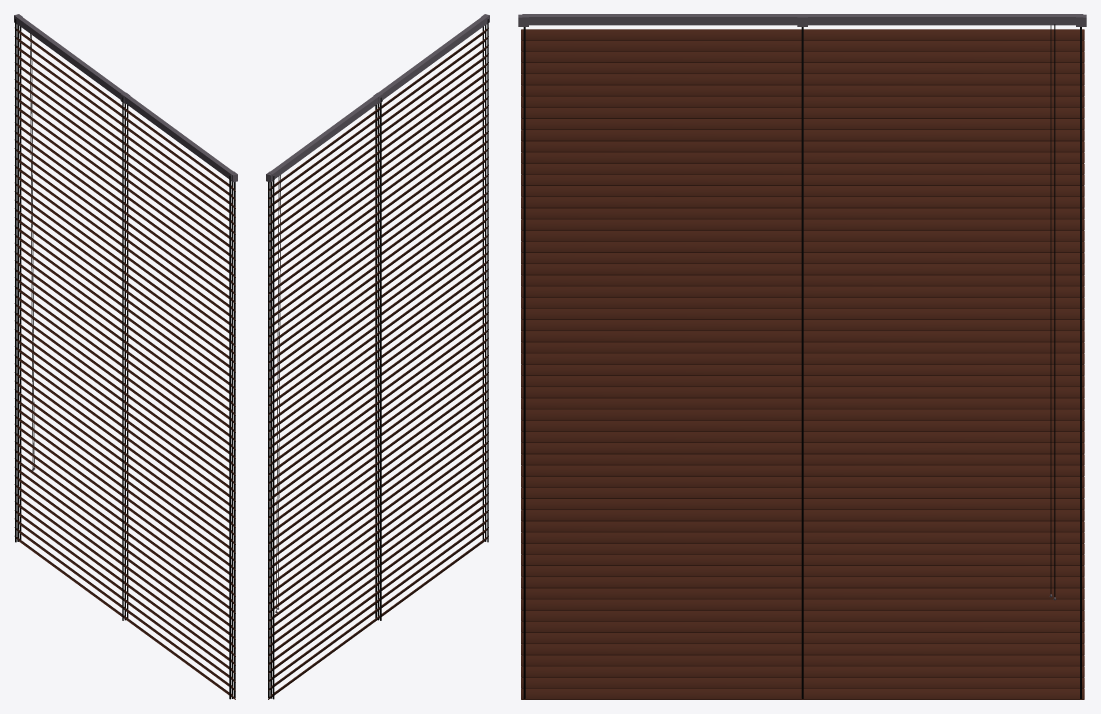
Rendered from SM_Blindes_mesh_lod0.fbx.
3 views of the same model, side by side, from view 1: azimuth 30°, elevation 25°; view 2: azimuth 150°, elevation 25°; view 3: azimuth 270°, elevation 25° (orthographic). The views are drawn at different scales.
Visible parts, largest first — view 1: Cylinder.002; view 2: Cylinder.002; view 3: Cylinder.002.
Part boxes in pixels (box(x1,y1,x2,y2)): Cylinder.002: box(14, 14, 237, 699); Cylinder.002: box(266, 14, 489, 699); Cylinder.002: box(518, 14, 1086, 699).
Size of the model in its own units: 8.45 by 485 by 366.
